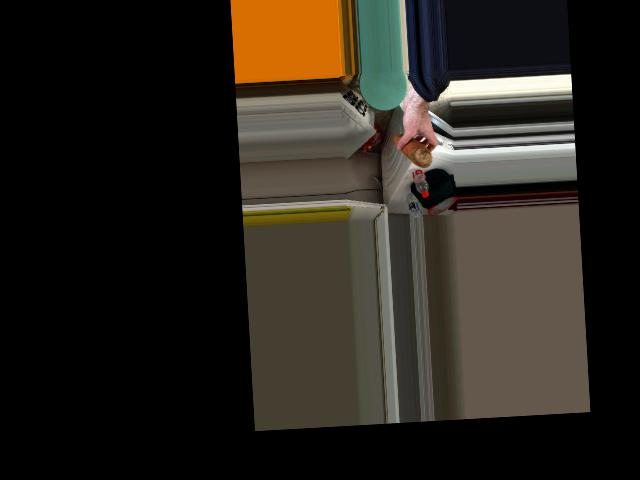sweet_potato: (389, 132, 435, 168)
